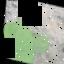Morning glory: (1, 10, 64, 64)
